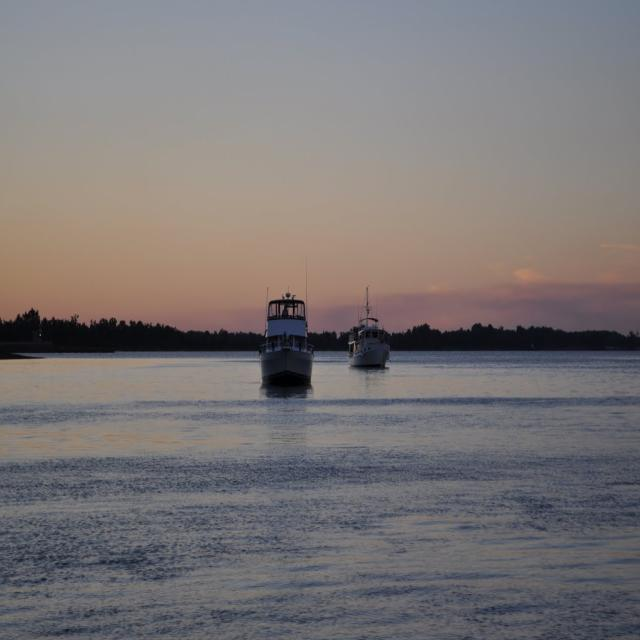houseboat: (255, 292, 314, 388), (343, 291, 392, 370)
